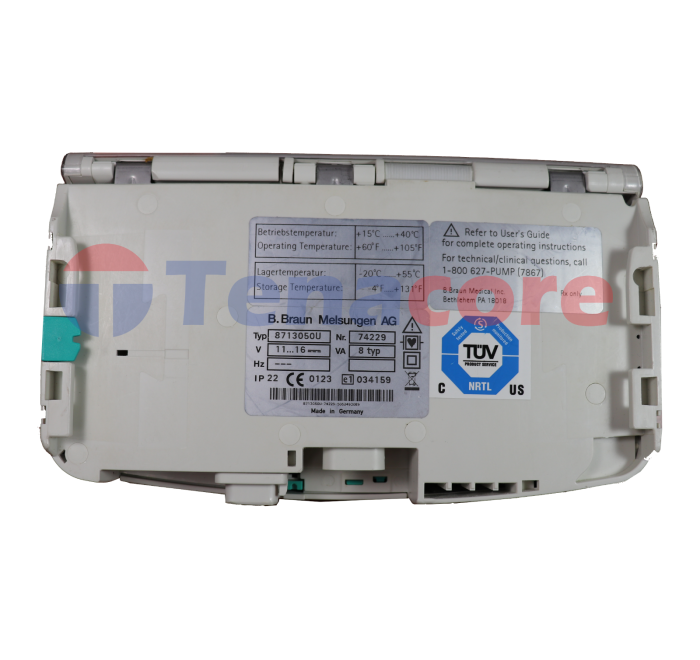BBraun Infusomat Space: (35, 134, 681, 524)
